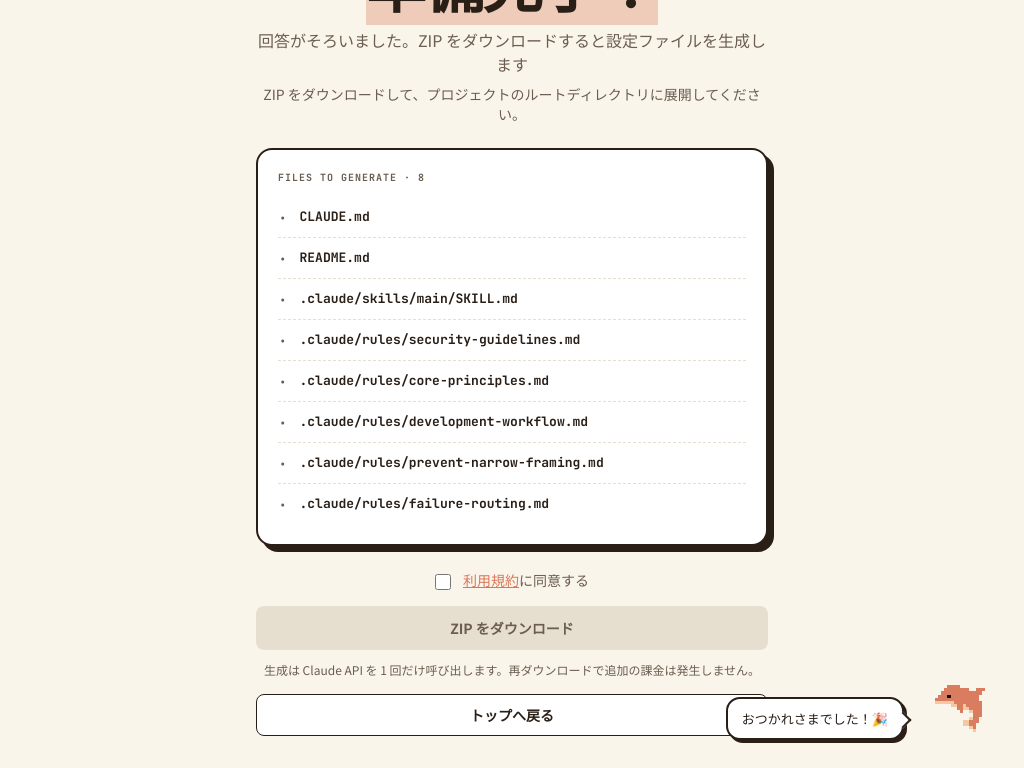
Test: CompletePage（2 状態表示 + Blob キャッシュ） › 生成前は「準備完了」表示で ✓ なし、生成成功後に「完成！生成されました」+ ✓ に切替
The image size is (1024, 768).
(page scrolled)
Expected: the text "完成！" is not shown
Expected: the text "設定ファイルが生成されました" is not shown
Click the checkbox: click(443, 582) [435,574,451,590]
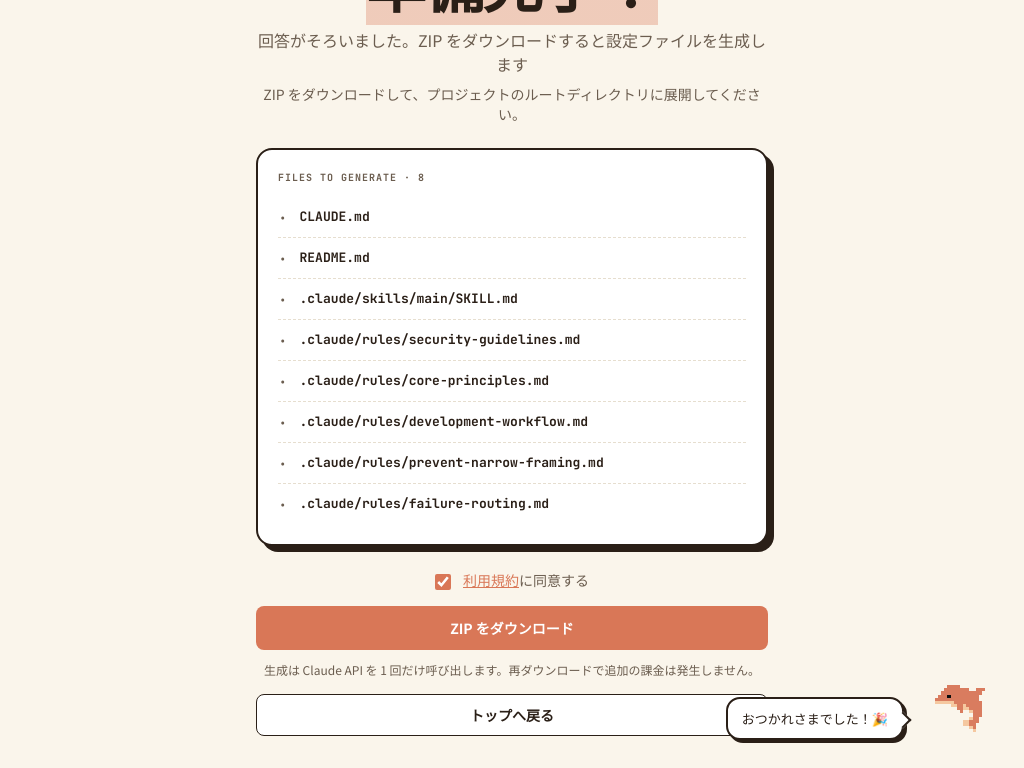
Click the button "ZIP をダウンロード": click(512, 628) [256,606,768,650]
(page scrolled)
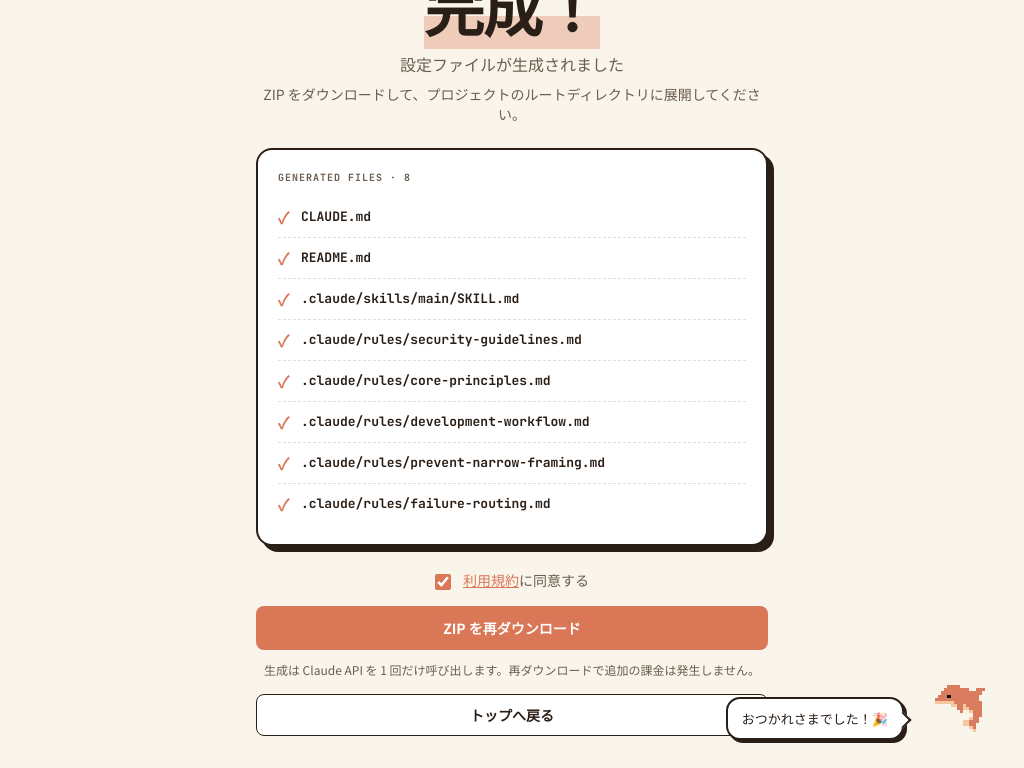
Expected: the text "設定ファイルが生成されました" is shown, [400,52,624,76]
Expected: the text "GENERATED FILES · 8" is shown, [278,171,411,184]
Expected: the text "✓" is shown 8 times
